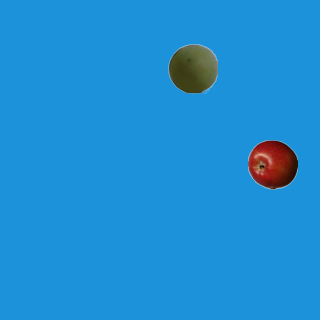Apple Braeburn: (247, 139, 297, 189)
Grape White 4: (167, 43, 217, 93)
